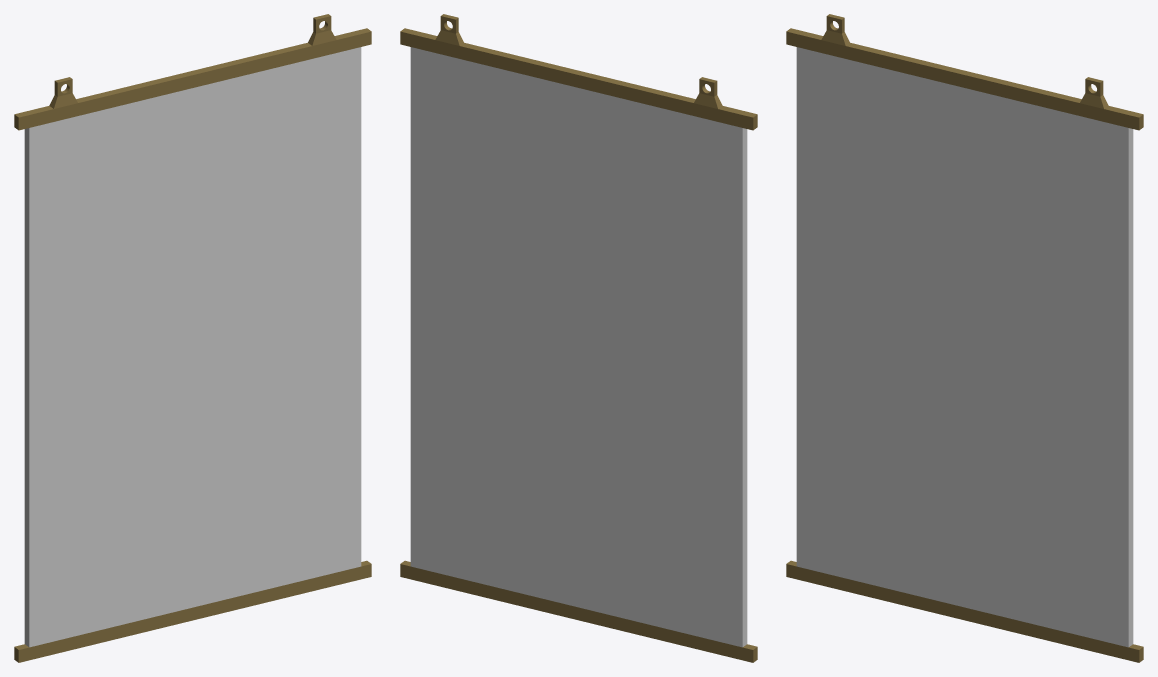
Rendered from pergamino.fbx.
The picture shows the model from 3 angles, left to right: view 1: azimuth 30°, elevation 25°; view 2: azimuth 150°, elevation 25°; view 3: azimuth 330°, elevation 25°; orthographic projection.
Visible parts, largest first — view 1: Pergamino; view 2: Pergamino; view 3: Pergamino.
Boxes of the visible parts, x1,y1,x2,y2 form: Pergamino: (14,14,371,662); Pergamino: (400,14,757,662); Pergamino: (786,14,1143,662).
Bounding box in the file's own units: 57.18 × 88.23 × 1.27.
